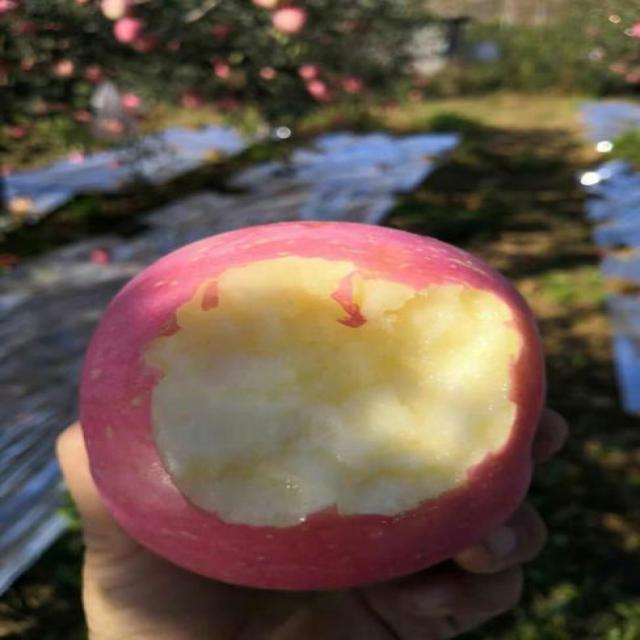Rotten: (76, 207, 564, 596)
